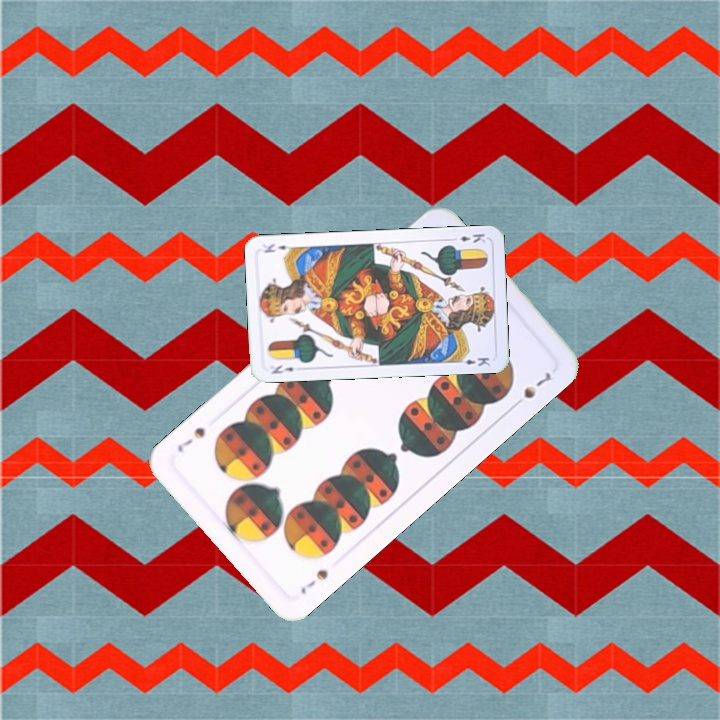EK: (447, 229, 488, 245), (268, 361, 296, 376)
S7: (296, 565, 331, 597)
